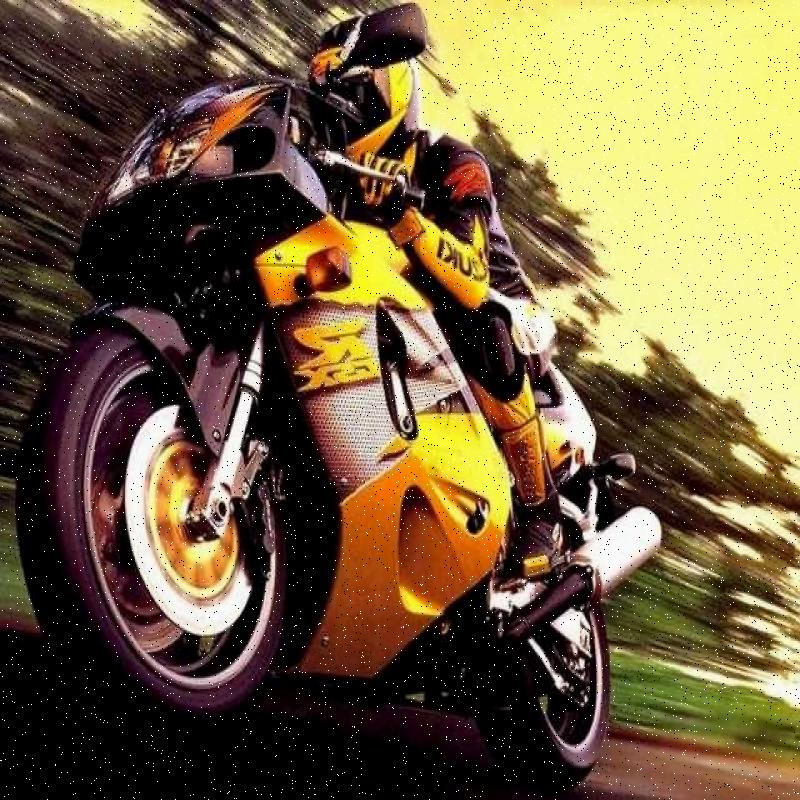bike: (28, 10, 669, 764)
